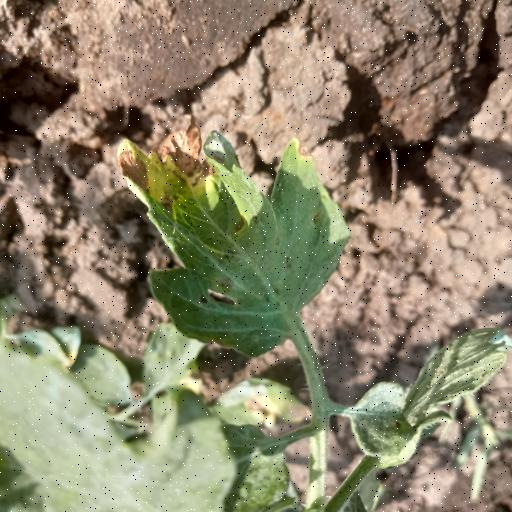Tomato_Brown_Spots: (114, 125, 350, 365)
